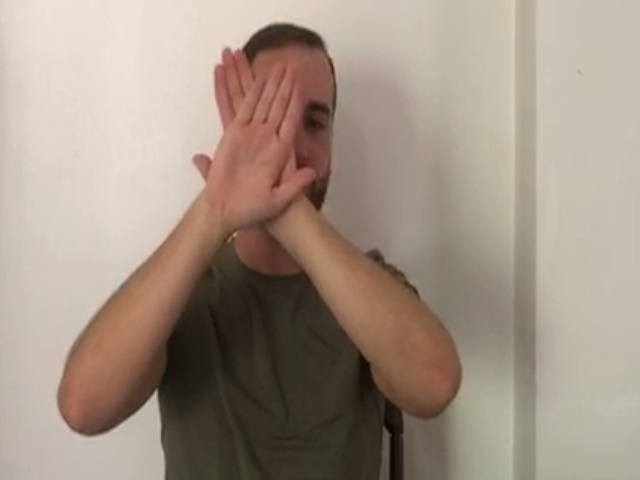Stemneto: (187, 44, 319, 236)
